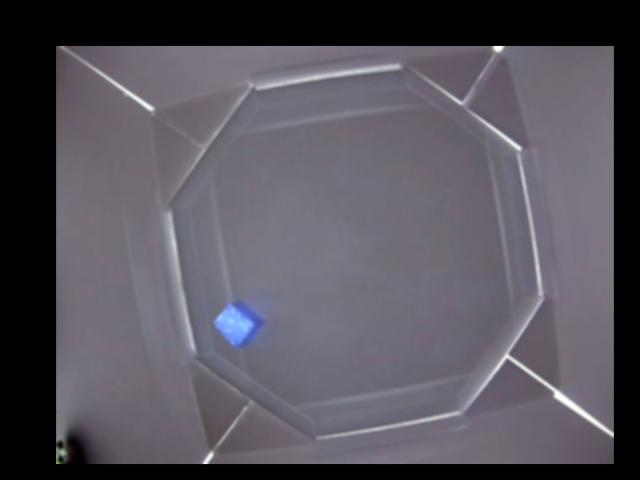Potato: (213, 297, 262, 347)
